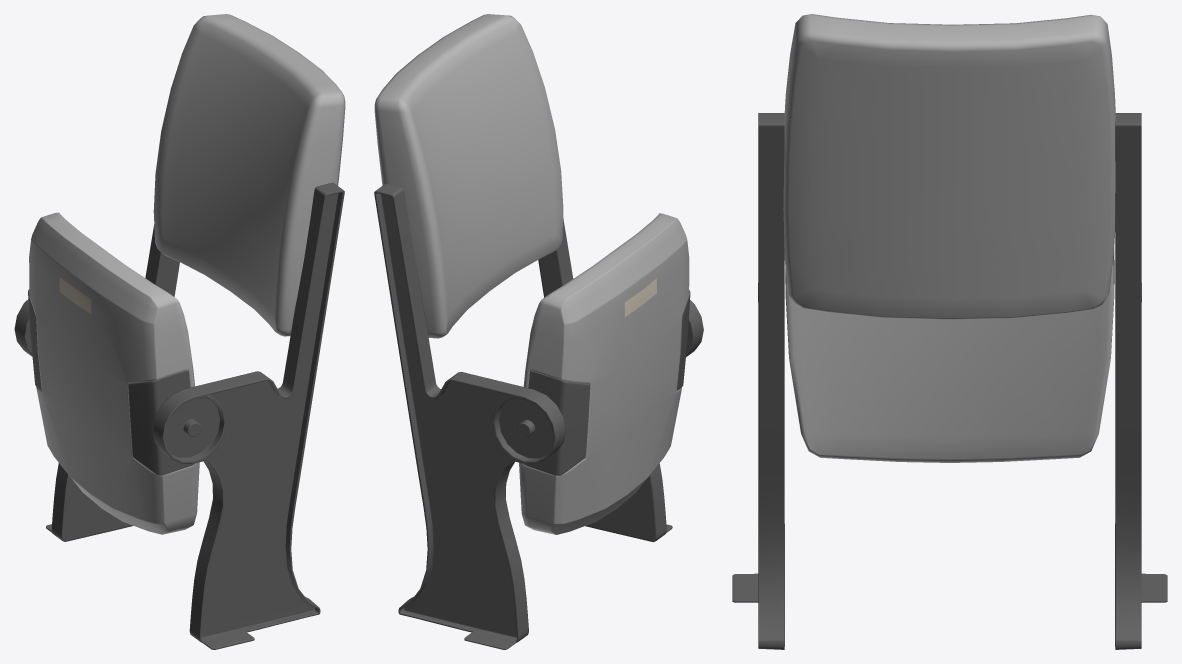
File: SM_072_Chair_4550.fbx
The picture shows the model from 3 angles, left to right: view 1: azimuth 30°, elevation 25°; view 2: azimuth 150°, elevation 25°; view 3: azimuth 270°, elevation 25°; orthographic projection. The views are drawn at different scales.
Visible parts, largest first — view 1: SM_072_Chair_4550; view 2: SM_072_Chair_4550; view 3: SM_072_Chair_4550.
Boxes of the visible parts, x1,y1,x2,y2 form: SM_072_Chair_4550: [14, 14, 345, 649]; SM_072_Chair_4550: [374, 14, 703, 649]; SM_072_Chair_4550: [732, 14, 1167, 649].
Size of the model in its own units: 46.88 by 60.47 by 99.41.
Materials: 1 (1 with a texture image).
